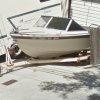Boat: (11, 8, 92, 67)
